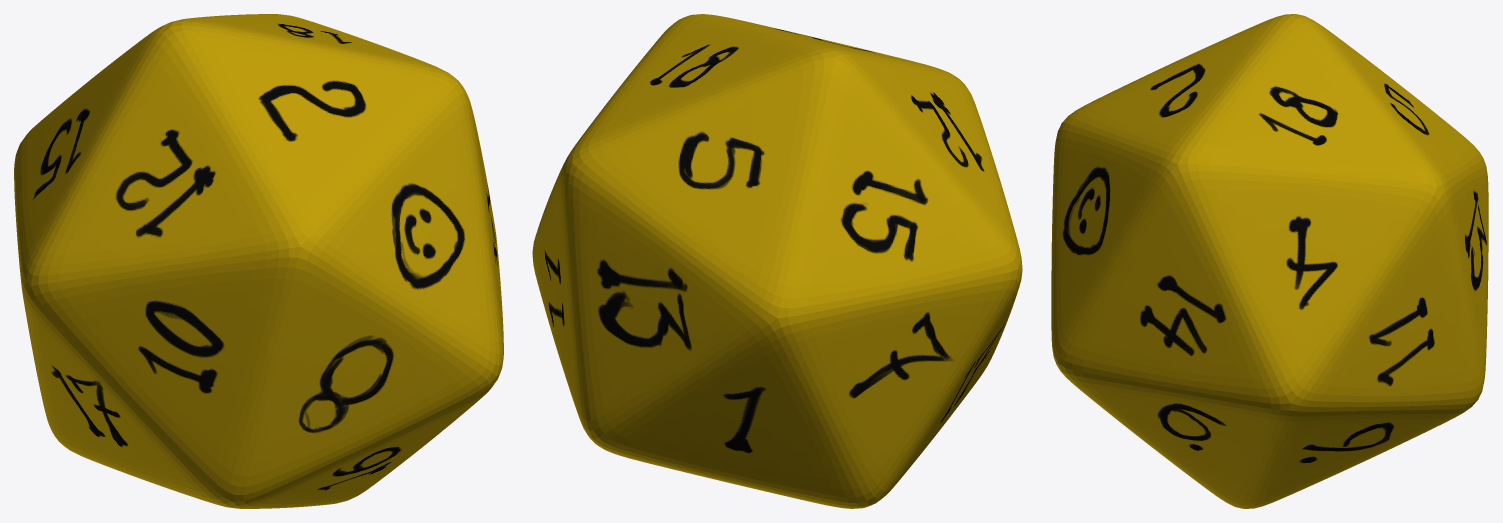
3 views of the same model, side by side, from view 1: azimuth 30°, elevation 25°; view 2: azimuth 150°, elevation 25°; view 3: azimuth 270°, elevation 25° (orthographic). The views are drawn at different scales.
Parts seen in each view (by area): view 1: d20; view 2: d20; view 3: d20.
Part boxes in pixels (bbox=[...]): d20: bbox=[14, 14, 503, 508]; d20: bbox=[532, 14, 1022, 508]; d20: bbox=[1051, 14, 1488, 508].
Size of the model in its own units: 6.14 by 5.95 by 5.44.
Materials: 1 (1 with a texture image).
